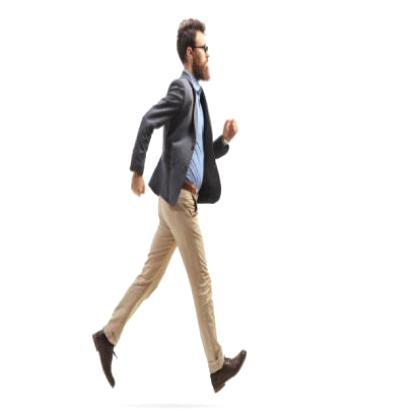person: (126, 19, 242, 398)
